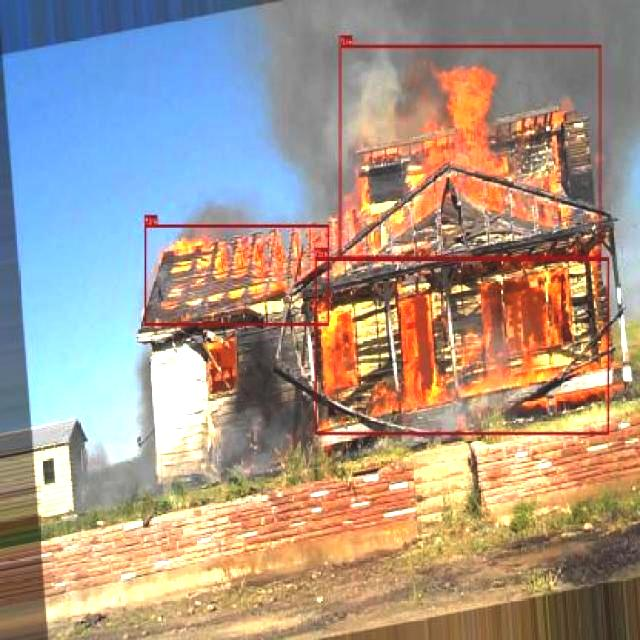fire: (339, 45, 601, 258), (314, 257, 608, 434), (144, 224, 328, 326)
